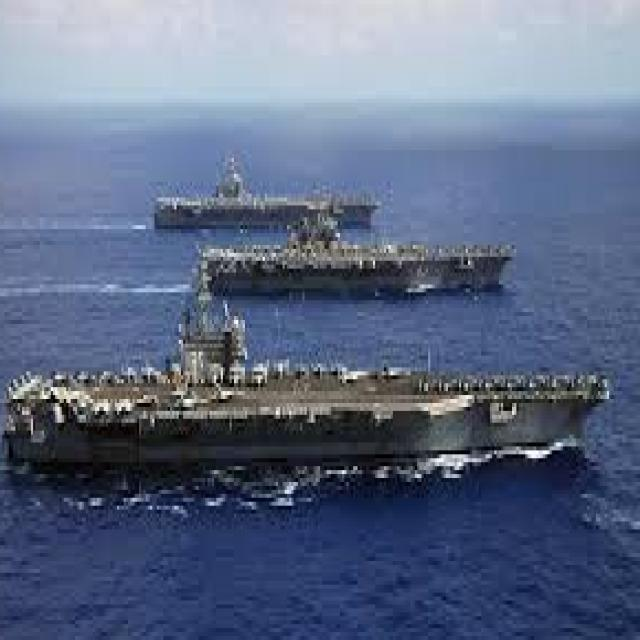navalvessels: (11, 261, 612, 476), (210, 222, 515, 278), (157, 155, 380, 228)
